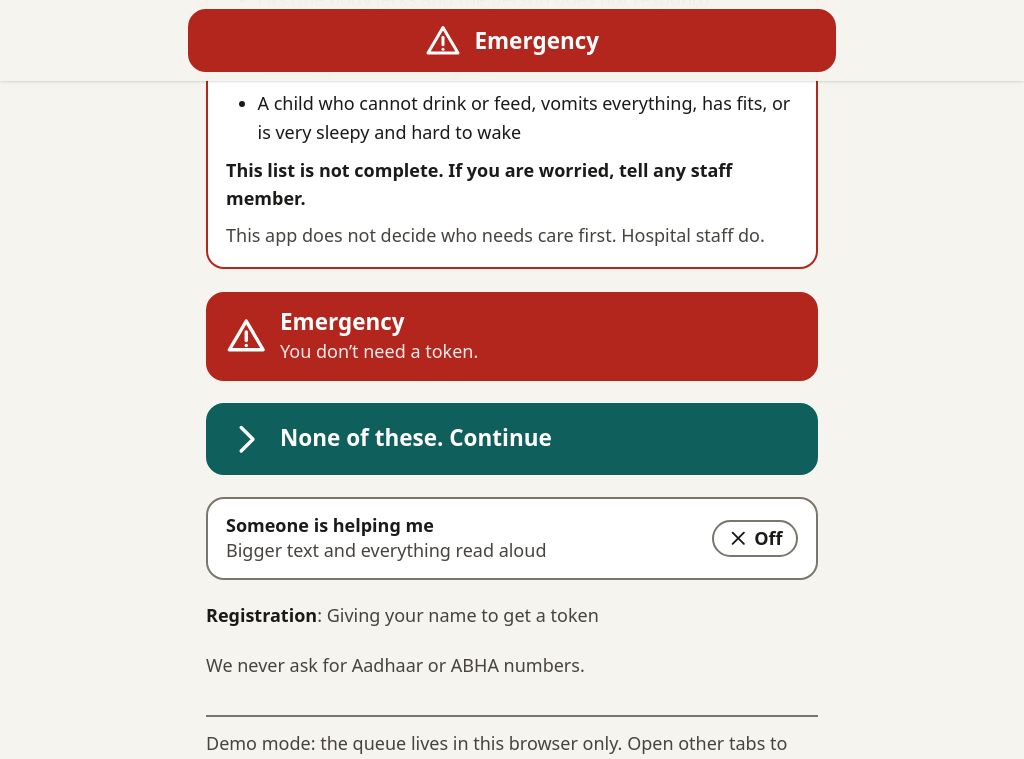
Test: register › asks one question per screen with a step count
(page scrolled)
Step 1. Click the link "None of these. Continue" → (512, 439), box x1=206 y1=403 x2=818 y2=475
(page scrolled)
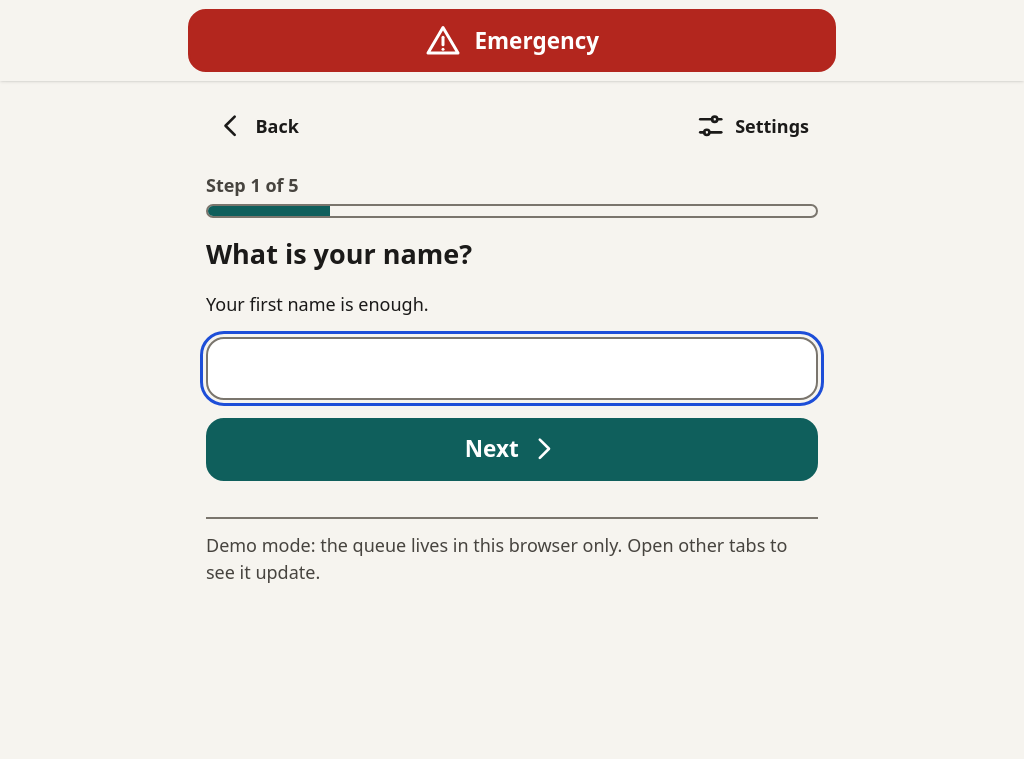
expect the text "Step 1 of 5" is shown: met, box x1=206 y1=173 x2=298 y2=197
expect the heading reads "What is your name?": met, box x1=206 y1=235 x2=472 y2=272
expect the number of fields is 1: met, box x1=206 y1=337 x2=818 y2=400
